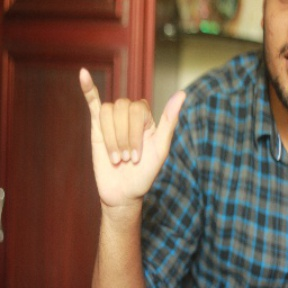J: (78, 67, 191, 201)
